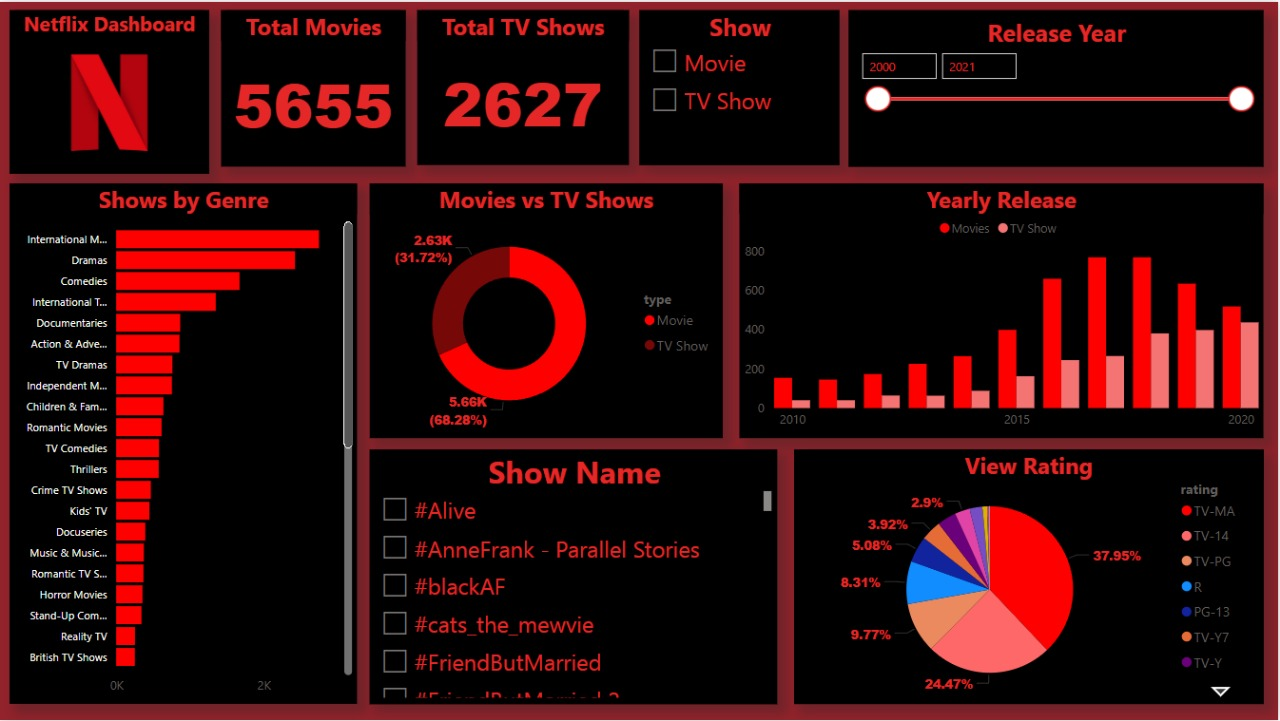

Layout of this report page (visuals, bound fields, positions):
{"tool":"powerbi","page":{"name":"Page 1","canvas":[1280,720],"ordinal":0},"visuals":[{"type":"image","title":"Netflix Dashboard","box":[10,8.3,200,164],"z":0},{"type":"card","title":"Total Movies","fields":{"Values":["Sheet1.Movies Count"]},"box":[221.7,8.3,185,156.7],"z":1000},{"type":"card","title":"Total TV Shows","fields":{"Values":["Sheet1.TV show count"]},"box":[418.3,8.3,211.7,155],"z":2000},{"type":"slicer","title":"Show","fields":{"Values":["Sheet1.type"]},"box":[640,8.3,200,155],"z":3000},{"type":"slicer","title":"Release Year","fields":{"Values":["Sheet1.release_year"]},"box":[850,8.3,415,156.7],"z":4000},{"type":"donutChart","title":"Movies vs TV Shows","fields":{"Y":["CountNonNull(Sheet1.show_id)"],"Category":["Sheet1.type"]},"box":[370,181.7,353.3,255],"z":4003},{"type":"clusteredColumnChart","title":"Yearly Release","fields":{"Category":["Sheet1.release_year"],"Y":["Sheet1.Movies Count","Sheet1.TV show count"]},"box":[740,181.7,525,255],"z":4004},{"type":"pieChart","title":"View Rating","fields":{"Category":["Sheet1.rating"],"Y":["CountNonNull(Sheet1.type)"]},"box":[795,448.3,470,255],"z":4005},{"type":"slicer","title":"Show Name","fields":{"Values":["Sheet1.title"]},"box":[370,448.3,408.3,255],"z":4006},{"type":"barChart","title":"Shows by Genre","fields":{"Category":["category_mapping.listed_in"],"Y":["CountNonNull(category_mapping.show_id)"]},"box":[10,181.7,348.3,521.7],"z":4007}]}

Visuals, with their boxes in screenshot pixels (x1, y1, x2, y2), scaled from the page's 1280x720 canvas onto the 1280x721 screenshot:
"Netflix Dashboard" image: select_region(10, 8, 210, 173)
"Total Movies" card: select_region(222, 8, 407, 165)
"Total TV Shows" card: select_region(418, 8, 630, 164)
"Show" slicer: select_region(640, 8, 840, 164)
"Release Year" slicer: select_region(850, 8, 1265, 165)
"Movies vs TV Shows" donutChart: select_region(370, 182, 723, 437)
"Yearly Release" clusteredColumnChart: select_region(740, 182, 1265, 437)
"View Rating" pieChart: select_region(795, 449, 1265, 704)
"Show Name" slicer: select_region(370, 449, 778, 704)
"Shows by Genre" barChart: select_region(10, 182, 358, 704)
